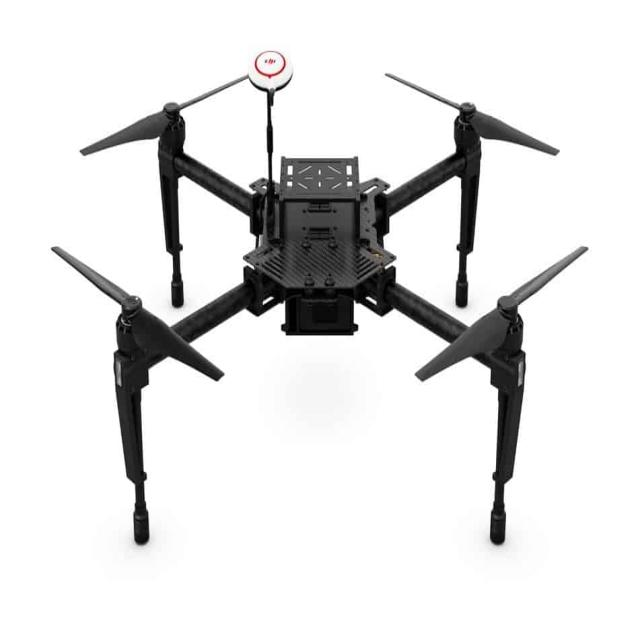drone: (90, 28, 640, 559)
